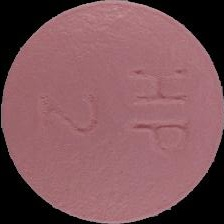70786-7376: (0, 0, 224, 224)
